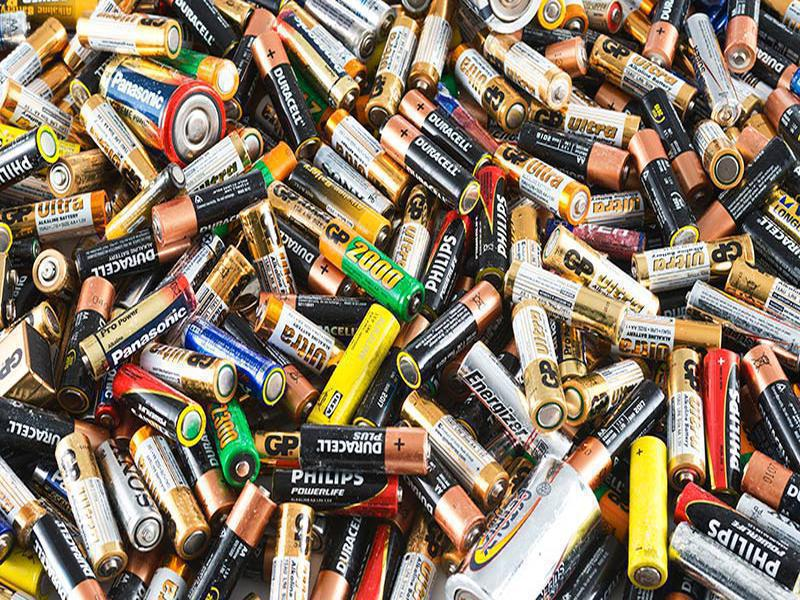battery: (387, 274, 502, 391), (250, 411, 438, 479), (376, 106, 486, 218), (617, 431, 678, 591), (504, 297, 573, 435), (660, 342, 713, 493)
